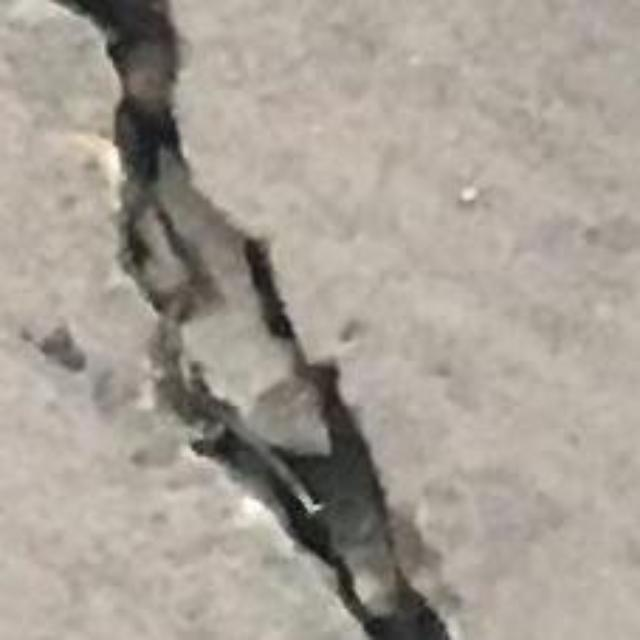crack: (57, 0, 451, 639)
